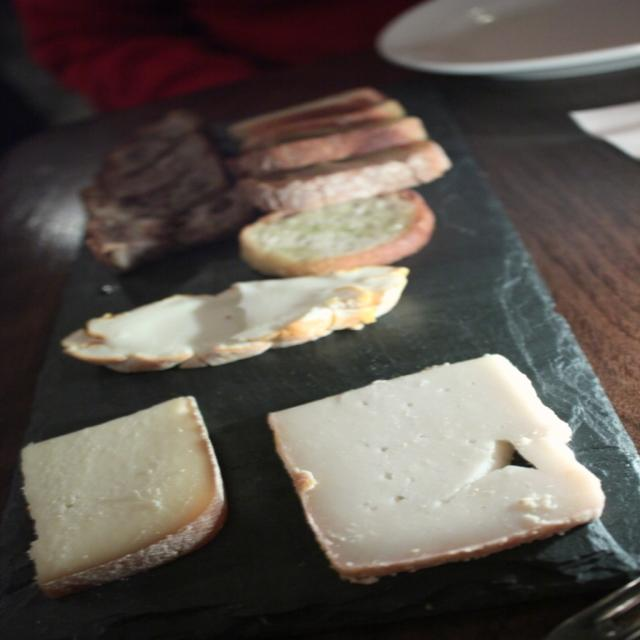Cheese: (264, 352, 609, 586), (26, 394, 232, 599), (61, 262, 412, 374)
